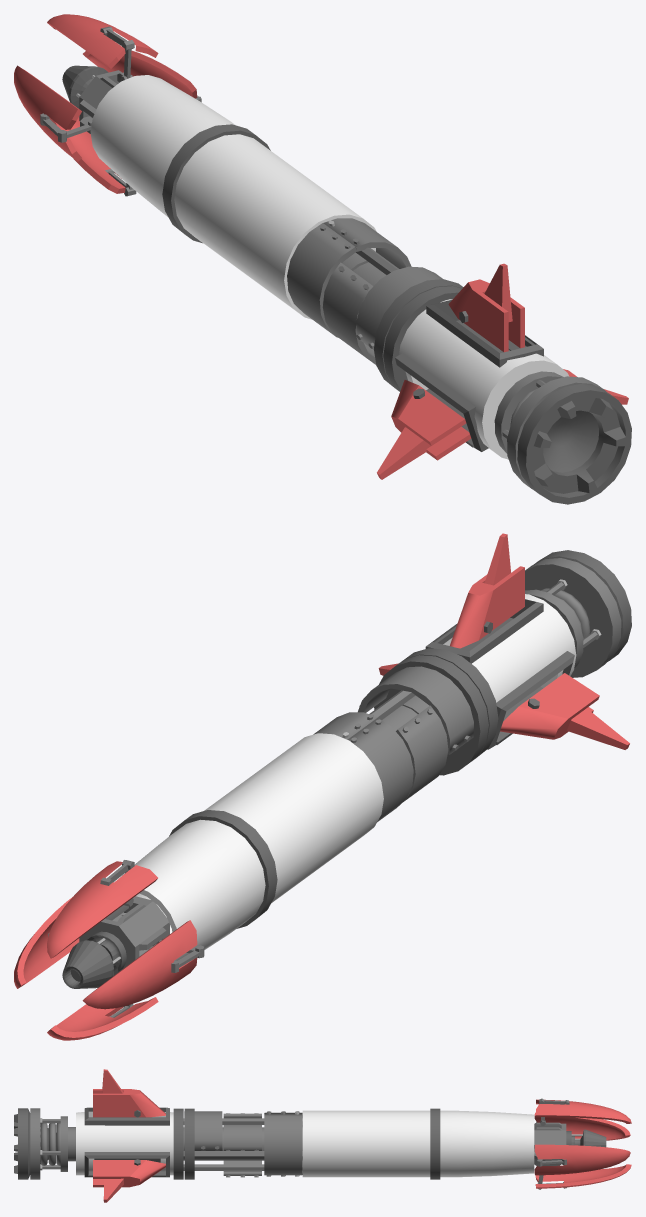
File: daodan.gltf
3 views of the same model, one above another, from view 1: azimuth 30°, elevation 25°; view 2: azimuth 150°, elevation 25°; view 3: azimuth 270°, elevation 25° (orthographic). The views are drawn at different scales.
Parts seen in each view (by area): view 1: rocket_model:pCylinder31 rocket_model:r_dinghezhongdakuang, rocket_model:rocket rocket_model:r_di rocket_model:r_dibudon (×3), rocket_model:rocket rocket_model:r_di rocket_model:engFar1 r, rocket_model:r_dinghezhongdakuang rocket_model:r_ding rocket (×6), rocket_model:r_dinghezhongdakuang rocket_model:HeadShell roc, rocket_model:r_zhong rocket_model:rocket rocket_model:pCylin (×3), rocket_model:r_zhong rocket_model:rocket rocket_model:group1, rocket_model:rocket rocket_model:r_di rocket_model:fincase2 , rocket_model:rocket rocket_model:r_di rocket_model:r_fadong  (×2), rocket_model:rocket rocket_model:r_di rocket_model:fincase r, rocket_model:r_dinghezhongdakuang rocket_model:pCylinder49, rocket_model:rocket rocket_model:r_di rocket_model:pCylinder (+3 smaller); view 2: rocket_model:r_dinghezhongdakuang rocket_model:r_ding rocket (×6), rocket_model:pCylinder31 rocket_model:r_dinghezhongdakuang, rocket_model:r_dinghezhongdakuang rocket_model:HeadShell roc, rocket_model:r_zhong rocket_model:rocket rocket_model:pCylin (×3), rocket_model:rocket rocket_model:r_di rocket_model:r_dibudon (×3), rocket_model:rocket rocket_model:r_di rocket_model:r_fadong  (×2), rocket_model:rocket rocket_model:r_di rocket_model:fincase2 , rocket_model:rocket rocket_model:r_di rocket_model:fincase r, rocket_model:r_zhong rocket_model:rocket rocket_model:group1, rocket_model:r_dinghezhongdakuang rocket_model:pCylinder49, rocket_model:rocket rocket_model:r_di rocket_model:engFar1 r, rocket_model:rocket rocket_model:r_di rocket_model:pCylinder (+3 smaller); view 3: rocket_model:pCylinder31 rocket_model:r_dinghezhongdakuang, rocket_model:r_dinghezhongdakuang rocket_model:r_ding rocket (×6), rocket_model:r_dinghezhongdakuang rocket_model:HeadShell roc, rocket_model:r_zhong rocket_model:rocket rocket_model:pCylin (×7), rocket_model:rocket rocket_model:r_di rocket_model:r_dibudon (×3), rocket_model:r_zhong rocket_model:rocket rocket_model:r_zhon, rocket_model:rocket rocket_model:r_di rocket_model:r_fadong  (×4), rocket_model:rocket rocket_model:r_di rocket_model:fincase r, rocket_model:rocket rocket_model:r_di rocket_model:fincase1 , rocket_model:rocket rocket_model:r_di rocket_model:engFar1 r, rocket_model:r_dinghezhongdakuang rocket_model:pCylinder49, rocket_model:rocket rocket_model:r_di rocket_model:pCylinder (+3 smaller).
Boxes of the visible parts, x1,y1,x2,y2 form: rocket_model:pCylinder31 rocket_model:r_dinghezhongdakuang: (174, 134, 376, 319); rocket_model:rocket rocket_model:r_di rocket_model:r_dibudon (×3): (395, 299, 569, 459); rocket_model:rocket rocket_model:r_di rocket_model:engFar1 r: (517, 384, 631, 504); rocket_model:r_dinghezhongdakuang rocket_model:r_ding rocket (×6): (14, 14, 197, 193); rocket_model:r_dinghezhongdakuang rocket_model:HeadShell roc: (90, 75, 235, 217); rocket_model:r_zhong rocket_model:rocket rocket_model:pCylin (×3): (322, 262, 463, 391); rocket_model:r_zhong rocket_model:rocket rocket_model:group1: (287, 223, 356, 337); rocket_model:rocket rocket_model:r_di rocket_model:fincase2 : (391, 380, 471, 460); rocket_model:rocket rocket_model:r_di rocket_model:r_fadong  (×2): (494, 371, 606, 488); rocket_model:rocket rocket_model:r_di rocket_model:fincase r: (448, 279, 524, 352); rocket_model:r_dinghezhongdakuang rocket_model:pCylinder49: (162, 124, 270, 243); rocket_model:rocket rocket_model:r_di rocket_model:pCylinder: (383, 286, 461, 391); rocket_model:r_dinghezhongdakuang rocket_model:r_ding rocket (×6): (14, 861, 197, 1040); rocket_model:pCylinder31 rocket_model:r_dinghezhongdakuang: (204, 733, 383, 903); rocket_model:r_dinghezhongdakuang rocket_model:HeadShell roc: (121, 819, 265, 960); rocket_model:r_zhong rocket_model:rocket rocket_model:pCylin (×3): (358, 655, 488, 801); rocket_model:rocket rocket_model:r_di rocket_model:r_dibudon (×3): (425, 594, 576, 749); rocket_model:rocket rocket_model:r_di rocket_model:r_fadong  (×2): (525, 558, 621, 677); rocket_model:rocket rocket_model:r_di rocket_model:fincase2 : (500, 673, 599, 739); rocket_model:rocket rocket_model:r_di rocket_model:fincase r: (450, 566, 524, 648); rocket_model:r_zhong rocket_model:rocket rocket_model:group1: (347, 717, 413, 821); rocket_model:r_dinghezhongdakuang rocket_model:pCylinder49: (169, 810, 277, 928); rocket_model:rocket rocket_model:r_di rocket_model:engFar1 r: (534, 550, 631, 661); rocket_model:rocket rocket_model:r_di rocket_model:pCylinder: (405, 648, 498, 763); rocket_model:pCylinder31 rocket_model:r_dinghezhongdakuang: (302, 1110, 430, 1177); rocket_model:r_dinghezhongdakuang rocket_model:r_ding rocket (×6): (534, 1099, 631, 1188); rocket_model:r_dinghezhongdakuang rocket_model:HeadShell roc: (440, 1110, 534, 1177); rocket_model:r_zhong rocket_model:rocket rocket_model:pCylin (×7): (183, 1108, 302, 1179); rocket_model:rocket rocket_model:r_di rocket_model:r_dibudon (×3): (76, 1107, 173, 1177); rocket_model:r_zhong rocket_model:rocket rocket_model:r_zhon: (264, 1113, 302, 1175); rocket_model:rocket rocket_model:r_di rocket_model:r_fadong  (×4): (30, 1108, 75, 1179); rocket_model:rocket rocket_model:r_di rocket_model:fincase r: (93, 1089, 165, 1117); rocket_model:rocket rocket_model:r_di rocket_model:fincase1 : (93, 1160, 165, 1187); rocket_model:rocket rocket_model:r_di rocket_model:engFar1 r: (14, 1108, 56, 1179); rocket_model:r_dinghezhongdakuang rocket_model:pCylinder49: (430, 1108, 440, 1179); rocket_model:rocket rocket_model:r_di rocket_model:pCylinder: (173, 1108, 183, 1179).
Size of the model in its own units: 10.38 by 8.13 by 38.35.
